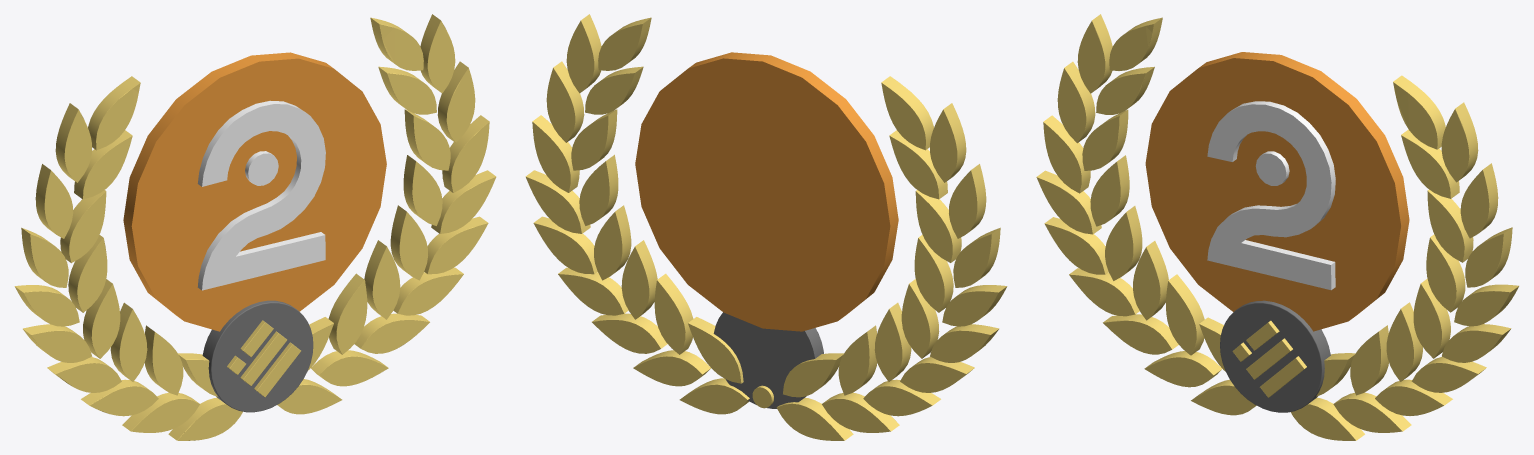
Rendered from 2lc-busd.glb.
The picture shows the model from 3 angles, left to right: view 1: azimuth 30°, elevation 25°; view 2: azimuth 150°, elevation 25°; view 3: azimuth 330°, elevation 25°; orthographic projection.
Visible parts, largest first — view 1: Laurels, Cylinder002, Line001, Logo_holder, Line003, Cylinder001; view 2: Laurels, Cylinder002, Logo_holder; view 3: Laurels, Cylinder002, Line001, Logo_holder, Line003, Cylinder001.
Part boxes in pixels (x1,y1,x2,y2): Laurels: (14, 14, 496, 440); Cylinder002: (123, 52, 386, 331); Line001: (197, 100, 325, 290); Logo_holder: (202, 300, 313, 412); Line003: (227, 320, 300, 397); Cylinder001: (245, 151, 278, 185); Laurels: (525, 14, 1007, 440); Cylinder002: (635, 52, 898, 331); Logo_holder: (713, 312, 823, 408); Laurels: (1036, 14, 1518, 440); Cylinder002: (1145, 52, 1409, 331); Line001: (1207, 101, 1335, 290); Logo_holder: (1220, 300, 1330, 412); Line003: (1232, 320, 1306, 397); Cylinder001: (1255, 151, 1289, 185).
Bounding box in the file's own units: 2.38 × 1.79 × 0.1236.
